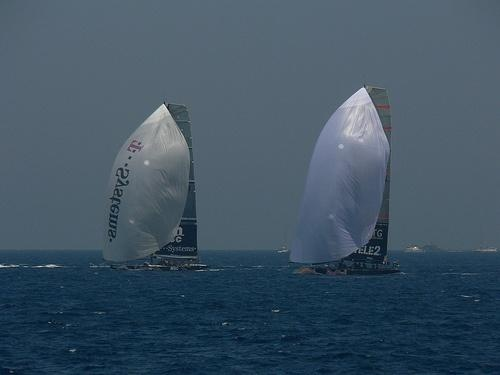boat: (290, 85, 404, 276), (104, 104, 212, 271)
